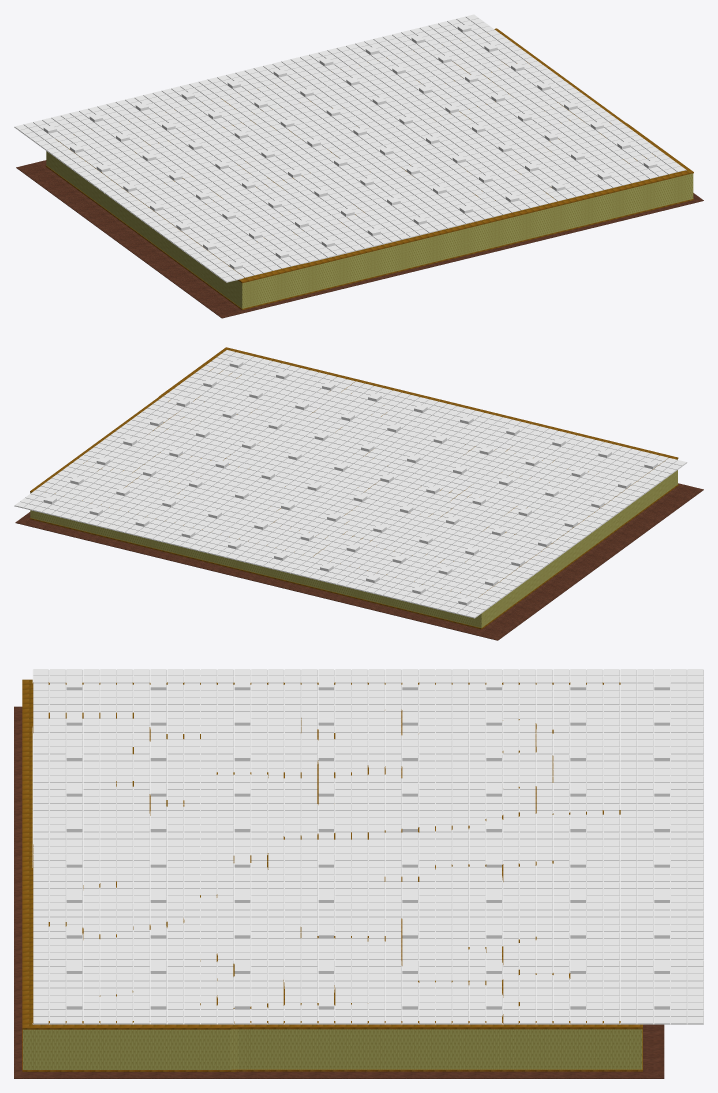
File: backrooms0001lv.fbx
3 renders of one model, top to bottom at view 1: azimuth 30°, elevation 25°; view 2: azimuth 150°, elevation 25°; view 3: azimuth 270°, elevation 25°, orthographic. The views are drawn at different scales.
Visible parts, largest first — view 1: Cube.003, Cube.002, Cube.007; view 2: Cube.003, Cube.002, Cube.007; view 3: Cube.003, Cube.002, Cube.007.
Boxes of the visible parts, x1,y1,x2,y2 form: Cube.003: (14,14,686,282); Cube.002: (45,28,693,310); Cube.007: (16,160,703,318); Cube.003: (14,350,687,618); Cube.002: (30,347,678,629); Cube.007: (15,483,703,640); Cube.003: (32,669,703,1024); Cube.002: (22,679,642,1071); Cube.007: (14,706,664,1078).
Size of the model in its own units: 4227 by 267 by 3318.
6 materials, 3 textured.
